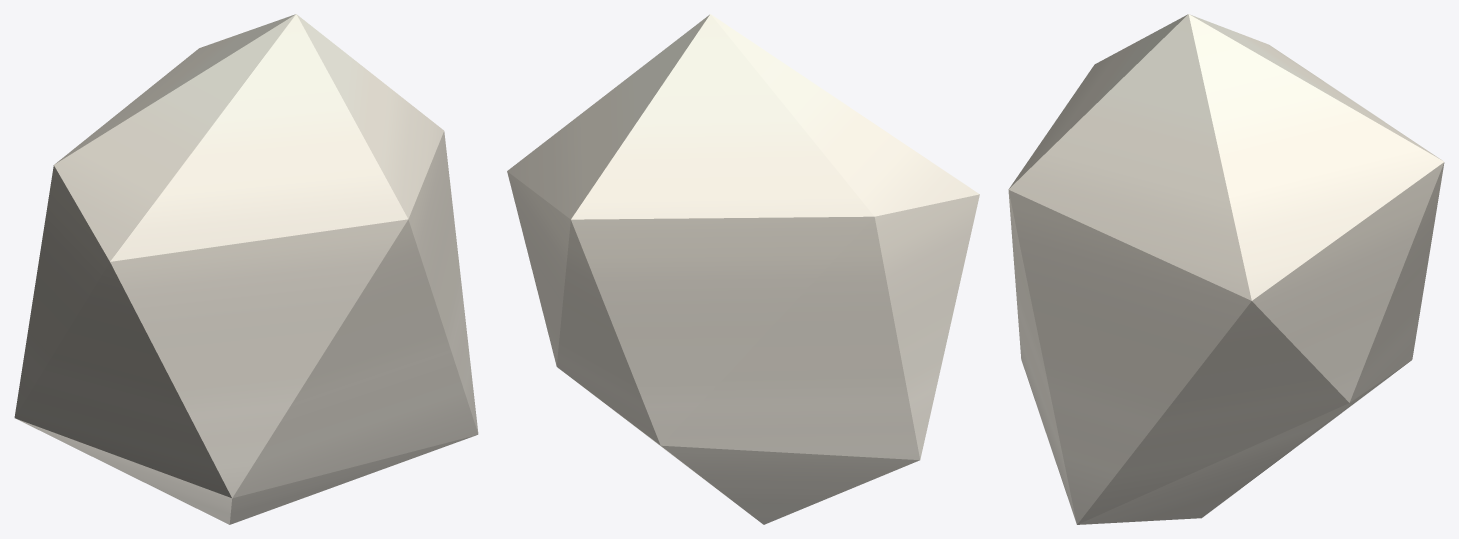
Rendered from Lixo.fbx.
The picture shows the model from 3 angles, left to right: view 1: azimuth 30°, elevation 25°; view 2: azimuth 150°, elevation 25°; view 3: azimuth 270°, elevation 25°; orthographic projection. The views are drawn at different scales.
Visible parts, largest first — view 1: Lixo_Malha; view 2: Lixo_Malha; view 3: Lixo_Malha.
Boxes of the visible parts, x1=… form: Lixo_Malha: x1=14, y1=14, x2=478, y2=524; Lixo_Malha: x1=507, y1=14, x2=979, y2=524; Lixo_Malha: x1=1008, y1=14, x2=1444, y2=524.
Size of the model in its own units: 0.1425 by 0.1604 by 0.1183.
